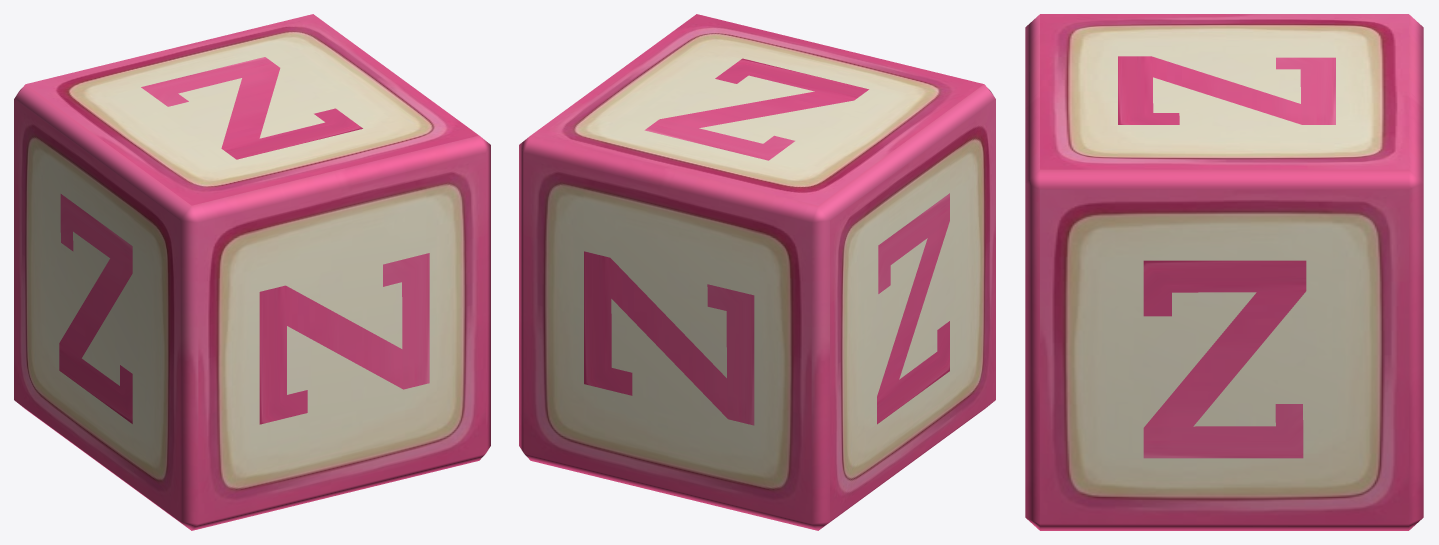
The model's file is CubeZ.glb.
3 views of the same model, side by side, from view 1: azimuth 30°, elevation 25°; view 2: azimuth 150°, elevation 25°; view 3: azimuth 270°, elevation 25° (orthographic). The views are drawn at different scales.
Visible parts, largest first — view 1: CubeZ; view 2: CubeZ; view 3: CubeZ.
Part boxes in pixels (left/top/right/bottom): CubeZ: left=14, top=14, right=490, bottom=530; CubeZ: left=519, top=14, right=995, bottom=530; CubeZ: left=1025, top=14, right=1423, bottom=530.
Size of what is drawn, in the model's own units: 0.513 by 0.513 by 0.513.
1 material, 1 textured.
